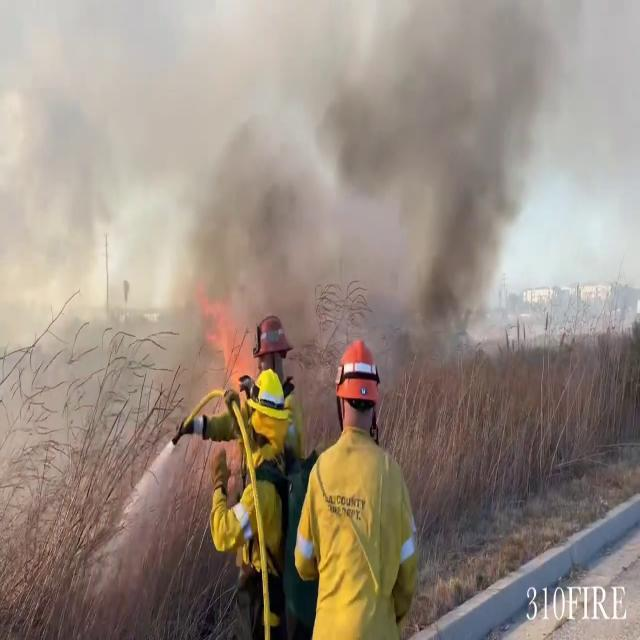Fire: (198, 300, 248, 364)
Smoke: (8, 0, 636, 343)
